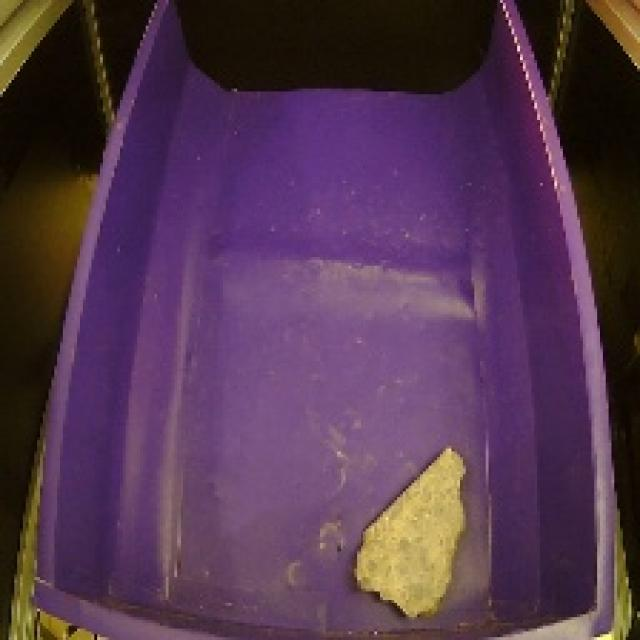china: (343, 438, 476, 622)
